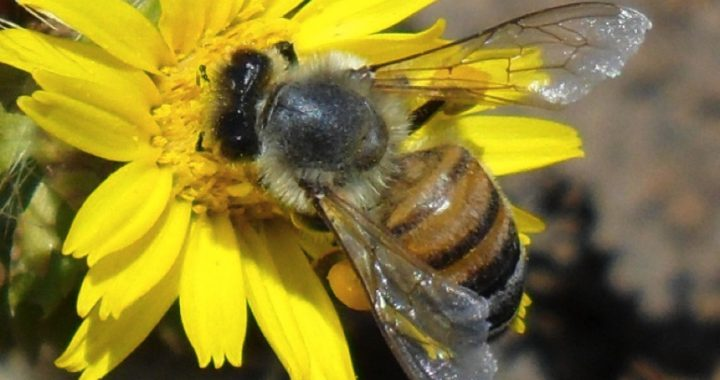bee: (181, 4, 670, 376)
